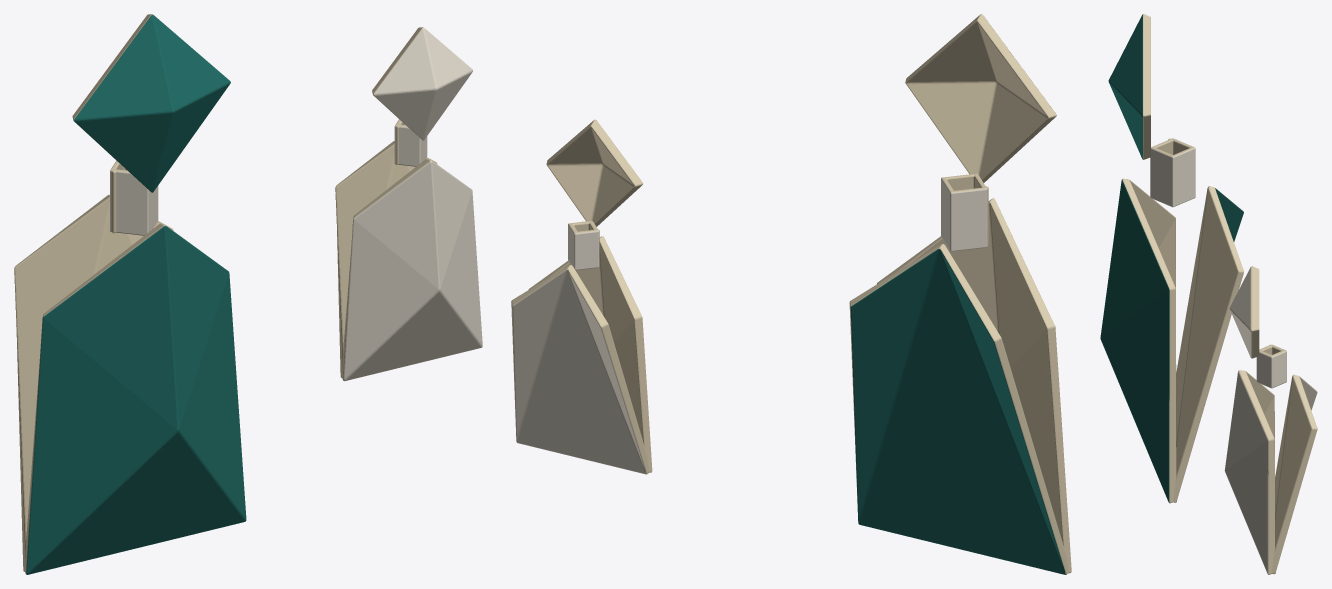
File: achievement-first-follower.glb
3 views of the same model, side by side, from view 1: azimuth 30°, elevation 25°; view 2: azimuth 150°, elevation 25°; view 3: azimuth 270°, elevation 25° (orthographic). The views are drawn at different scales.
Parts seen in each view (by area): view 1: achievement-first-follower; view 2: achievement-first-follower; view 3: achievement-first-follower.
Boxes of the visible parts, box(x1,y1,x2,y2) form: achievement-first-follower: box(14, 14, 482, 574); achievement-first-follower: box(511, 14, 1071, 574); achievement-first-follower: box(1100, 14, 1317, 574).
Size of the model in its own units: 1.13 by 1.14 by 0.5049.
